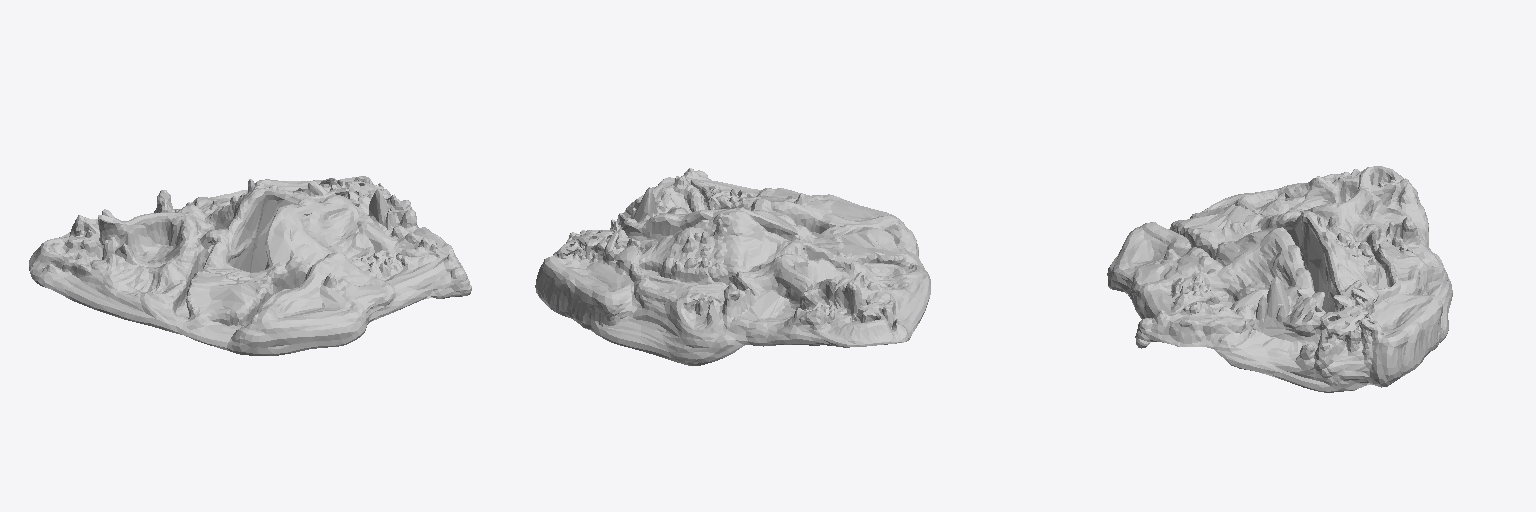
File: 000_Terrain.obj
The picture shows the model from 3 angles: view 1: azimuth 30°, elevation 25°; view 2: azimuth 150°, elevation 25°; view 3: azimuth 270°, elevation 25°; orthographic projection.
Visible parts, largest first — view 1: Terrain_Low; view 2: Terrain_Low; view 3: Terrain_Low.
Part boxes in pixels (left/top/right/bottom): Terrain_Low: left=29, top=176, right=471, bottom=355; Terrain_Low: left=535, top=168, right=930, bottom=365; Terrain_Low: left=1107, top=166, right=1452, bottom=392.
Bounding box in the file's own units: 280 × 77.04 × 232.